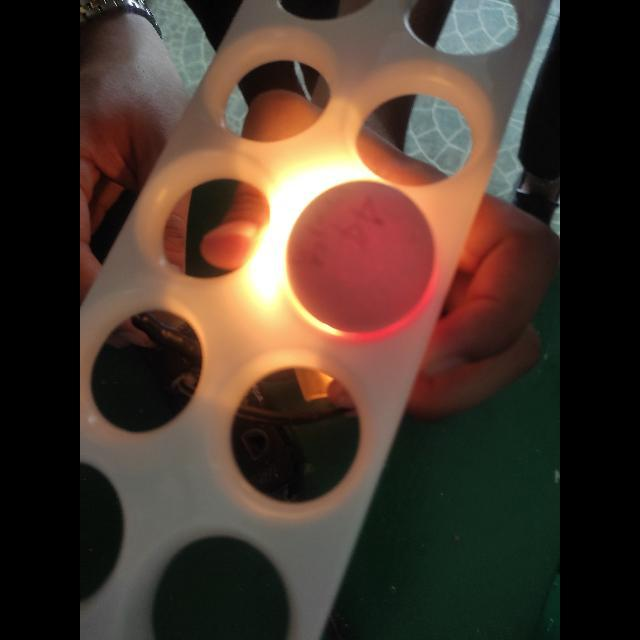Fertile: (288, 177, 442, 343)
